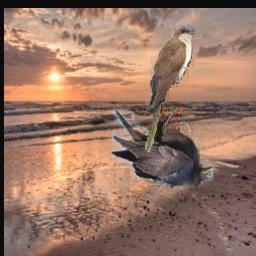Crow: (113, 109, 214, 187)
Cuckoo: (145, 25, 195, 152)
